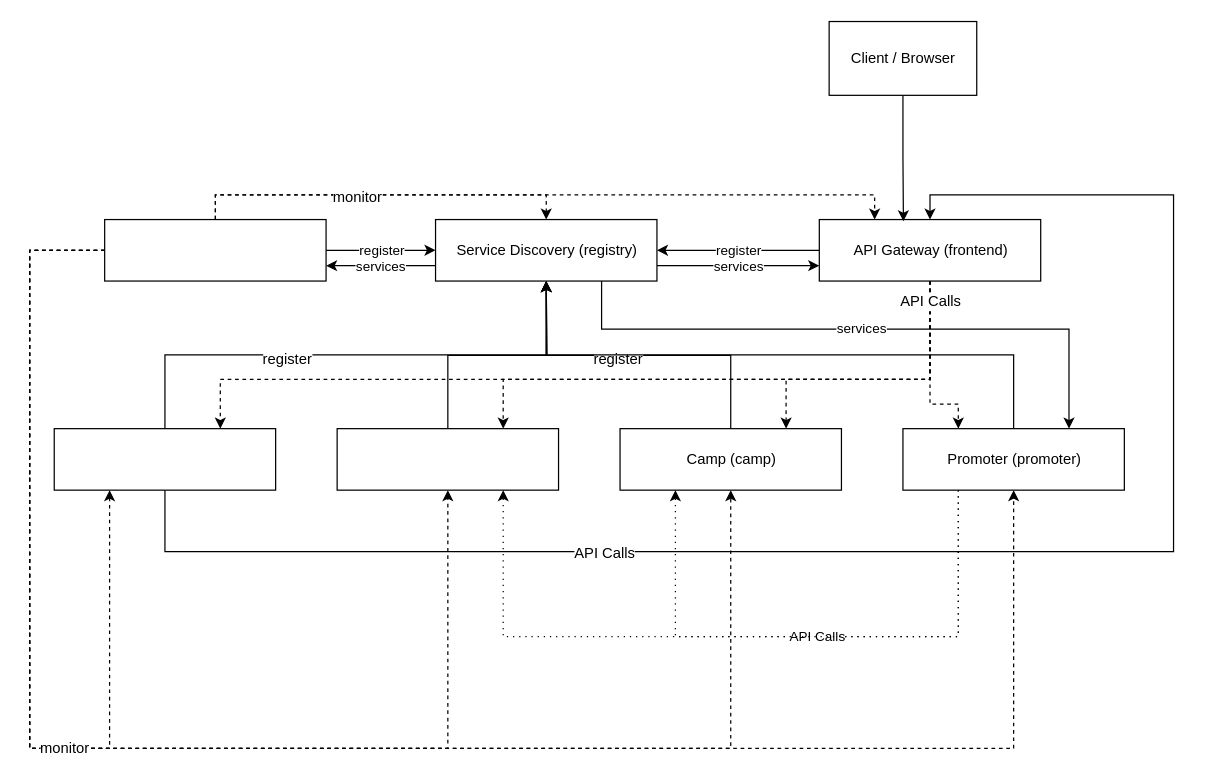
This 1205x780 diagram has some shape labels left out. Here are the shapes that lost their labels. From the top down, the centre of each, then its label:
(x=214, y=249): Admin UI (admin)
(x=164, y=458): UI (ui)
(x=447, y=458): Arena (arena)
